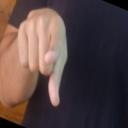hand: (18, 8, 68, 108)
